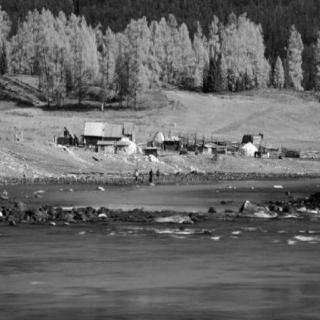other: (10, 12, 263, 96)
